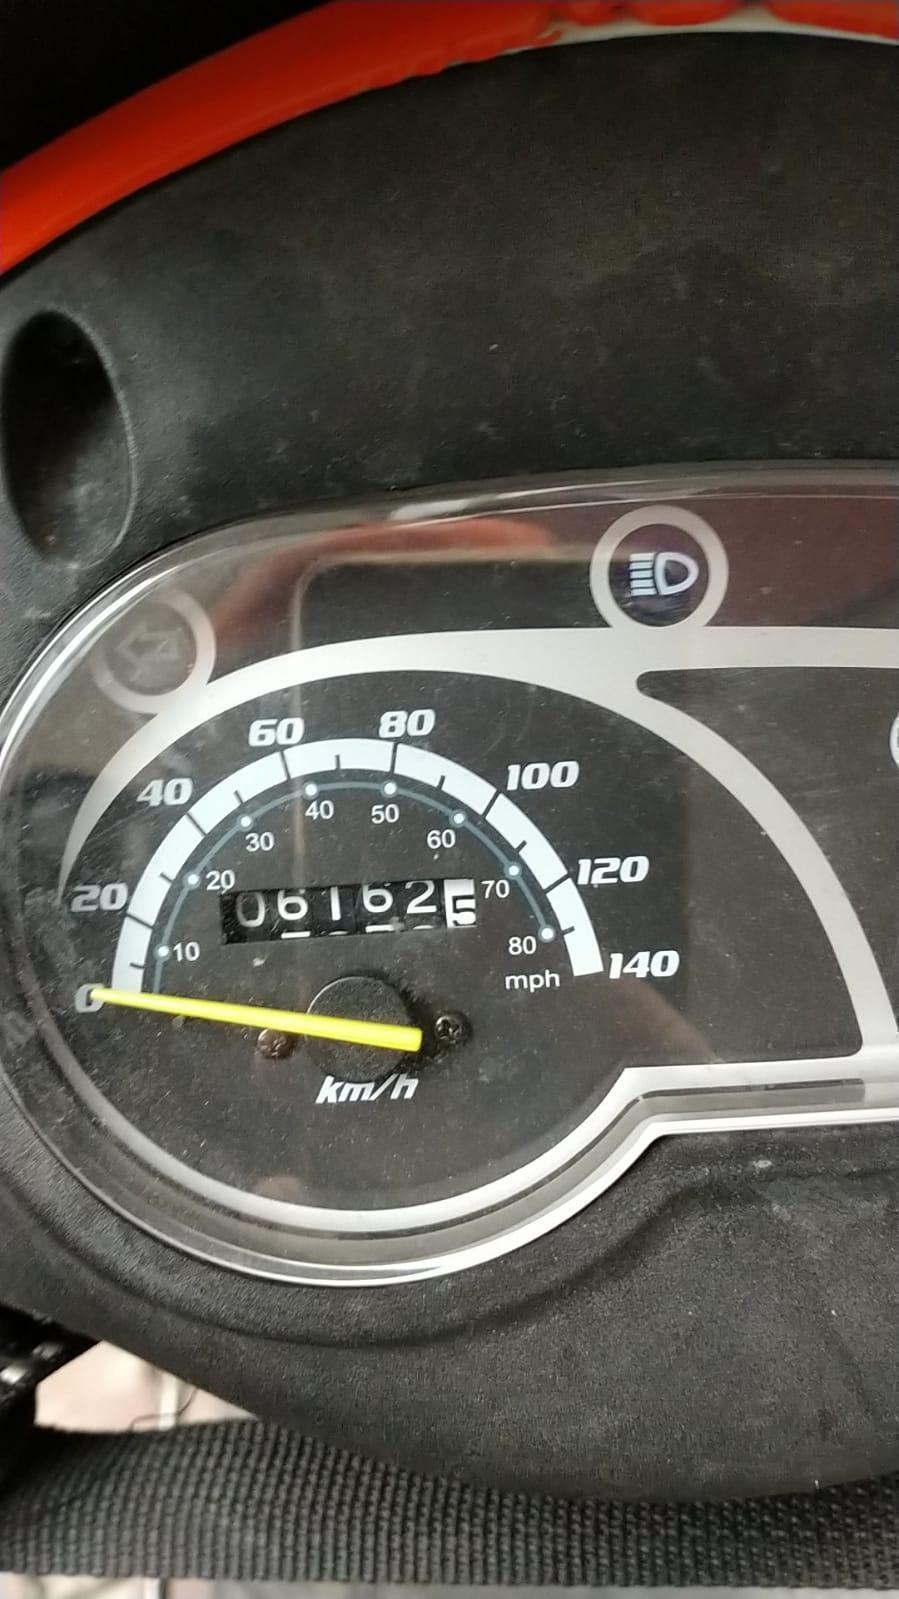0: (232, 890, 270, 933), (220, 869, 235, 890)
1: (321, 882, 347, 927)
2: (404, 877, 438, 923), (205, 870, 220, 893)
5: (449, 890, 476, 933)
6: (359, 877, 396, 923), (274, 880, 311, 925)
odometer: (213, 876, 484, 946)
